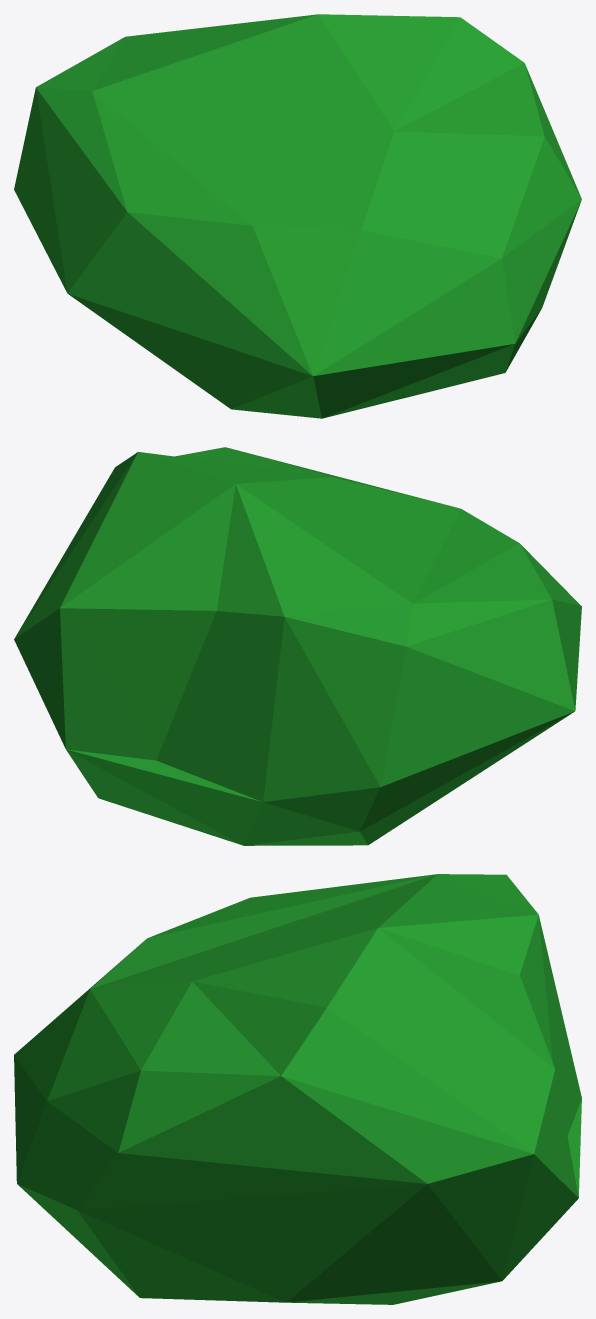
The model's file is Bush.fbx.
The picture shows the model from 3 angles, top to bottom: view 1: azimuth 30°, elevation 25°; view 2: azimuth 150°, elevation 25°; view 3: azimuth 270°, elevation 25°; orthographic projection. The views are drawn at different scales.
Parts seen in each view (by area): view 1: Bush; view 2: Bush; view 3: Bush.
Boxes of the visible parts, left/top/right/bottom form: Bush: left=14, top=14, right=581, bottom=418; Bush: left=14, top=447, right=581, bottom=845; Bush: left=14, top=874, right=581, bottom=1304.
Bounding box in the file's own units: 0.9159 × 0.6052 × 0.8887.
